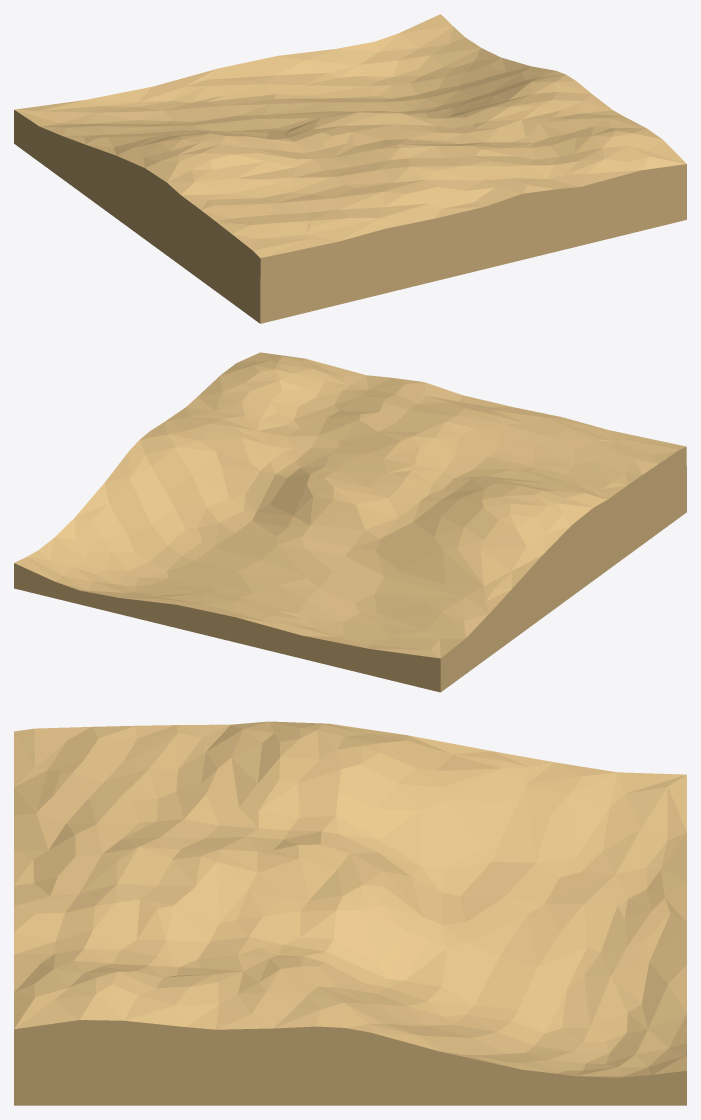
Rendered from sand.gltf.
3 renders of one model, top to bottom at view 1: azimuth 30°, elevation 25°; view 2: azimuth 150°, elevation 25°; view 3: azimuth 270°, elevation 25°, orthographic. The views are drawn at different scales.
Visible parts, largest first — view 1: sand; view 2: sand; view 3: sand.
Part boxes in pixels (x1,y1,x2,y2): sand: (14,14,686,323); sand: (14,352,686,692); sand: (14,721,686,1105).
Bounding box in the file's own units: 8 × 1.49 × 8.
